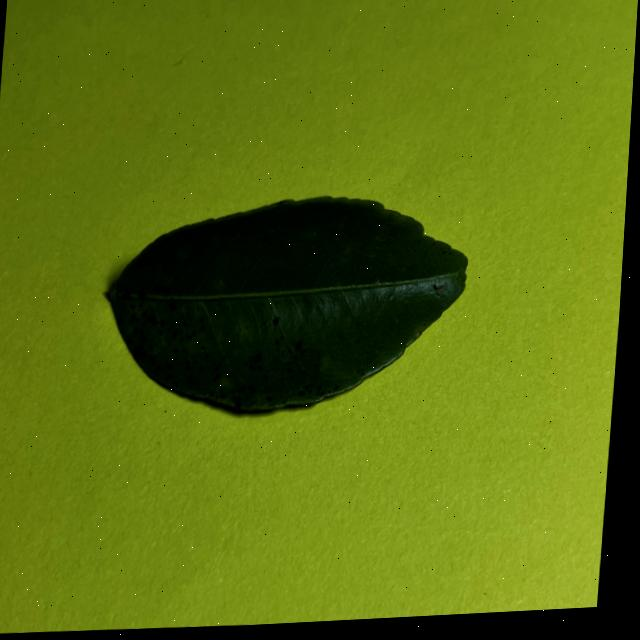sooty_mold: (109, 198, 465, 410)
